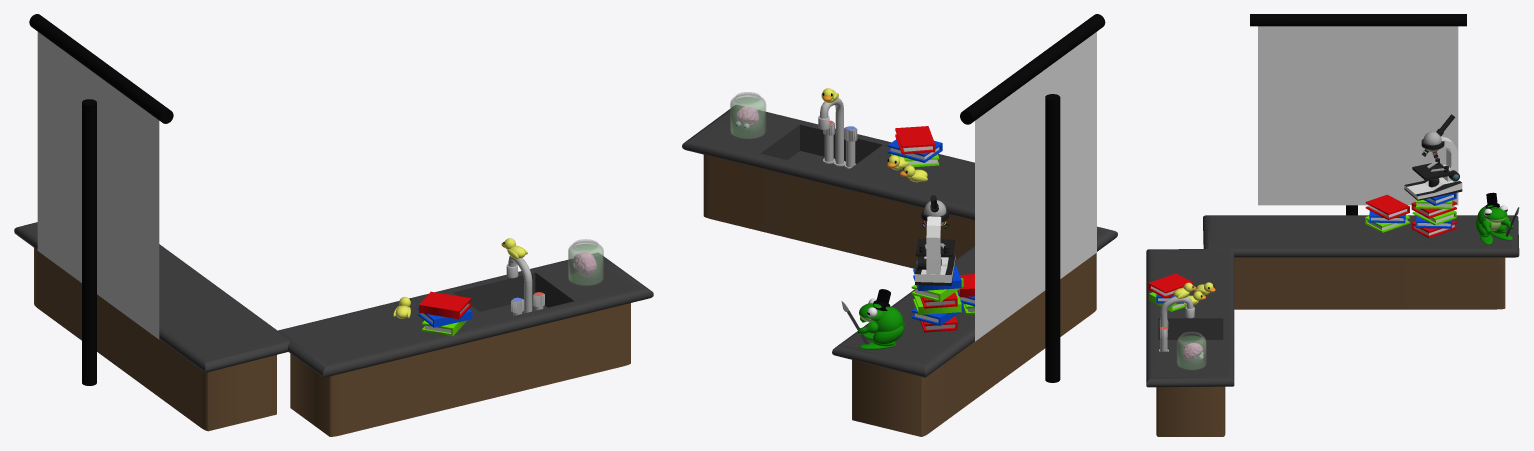
Rendered from Room Staging.glb.
3 views of the same model, side by side, from view 1: azimuth 30°, elevation 25°; view 2: azimuth 150°, elevation 25°; view 3: azimuth 270°, elevation 25° (orthographic). The views are drawn at different scales.
Parts seen in each view (by area): view 1: DeskR, DeskL, Jar, Juice; view 2: DeskR, DeskL, Microscope, Frog, Jar, Juice; view 3: DeskR, DeskL, Microscope, Frog, Jar, Juice.
Part boxes in pixels (bbox=[...]): DeskR: bbox=[14, 14, 289, 431]; DeskL: bbox=[277, 253, 653, 436]; Jar: bbox=[568, 239, 603, 285]; Juice: bbox=[569, 244, 602, 284]; DeskR: bbox=[832, 14, 1117, 436]; DeskL: bbox=[682, 98, 974, 268]; Microscope: bbox=[915, 195, 955, 285]; Frog: bbox=[841, 289, 904, 349]; Jar: bbox=[730, 92, 765, 138]; Juice: bbox=[731, 97, 764, 138]; DeskR: bbox=[1203, 14, 1519, 309]; DeskL: bbox=[1146, 249, 1234, 436]; Microscope: bbox=[1404, 114, 1462, 200]; Frog: bbox=[1476, 192, 1519, 244]; Jar: bbox=[1177, 332, 1206, 370]; Juice: bbox=[1178, 335, 1205, 369].
Size of the model in its own units: 12.31 by 8.27 by 10.79.
